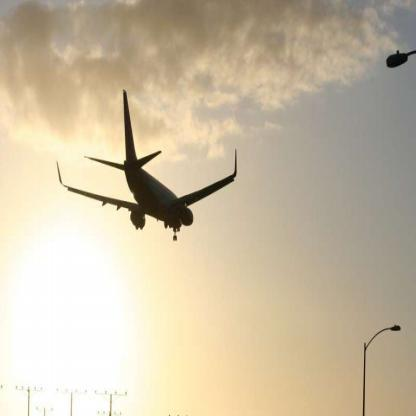CIV_Plane: (49, 84, 241, 246)
